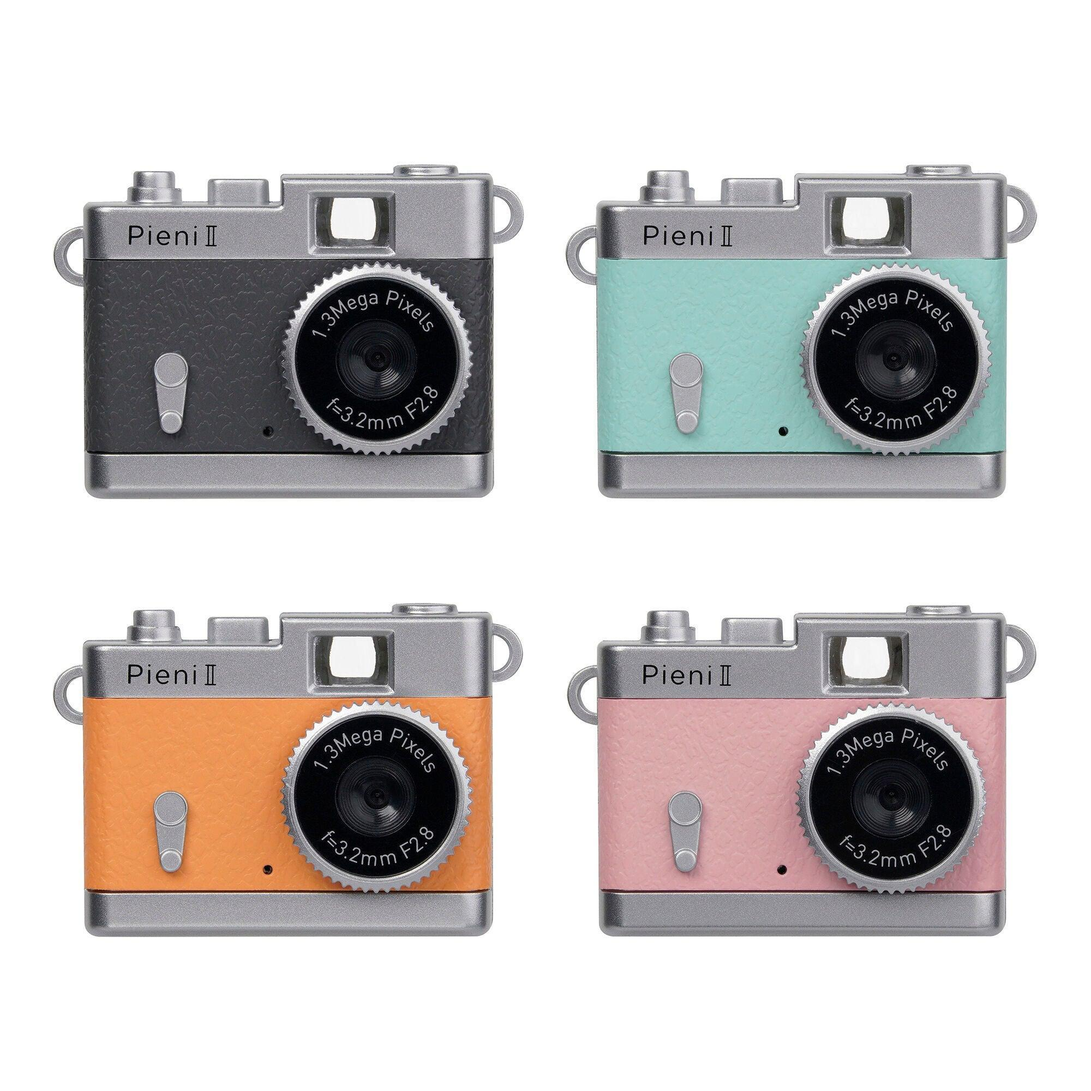degital-camera: (45, 162, 529, 517), (49, 585, 524, 945), (558, 158, 1036, 506), (567, 602, 1042, 951)
